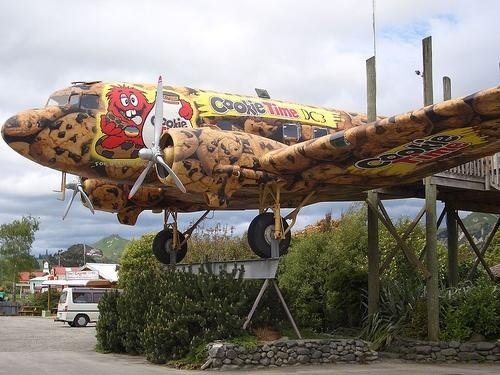aeroplane: (4, 59, 499, 264)
car: (58, 283, 119, 329)
